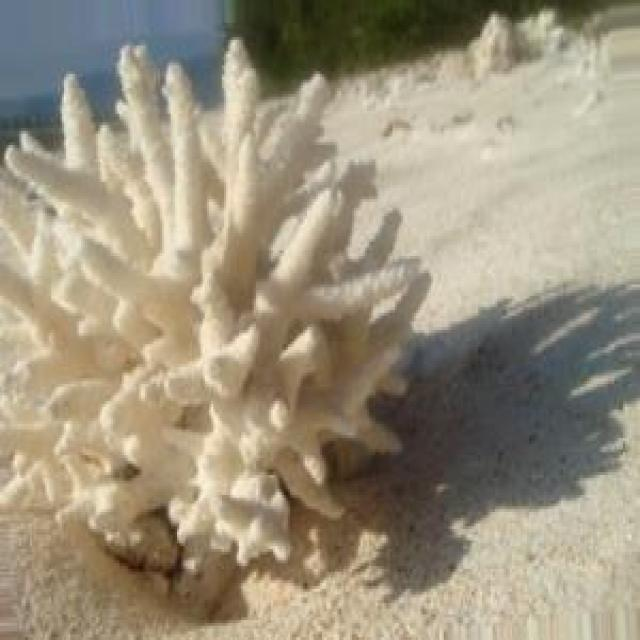bleached coral: (0, 40, 430, 614)
